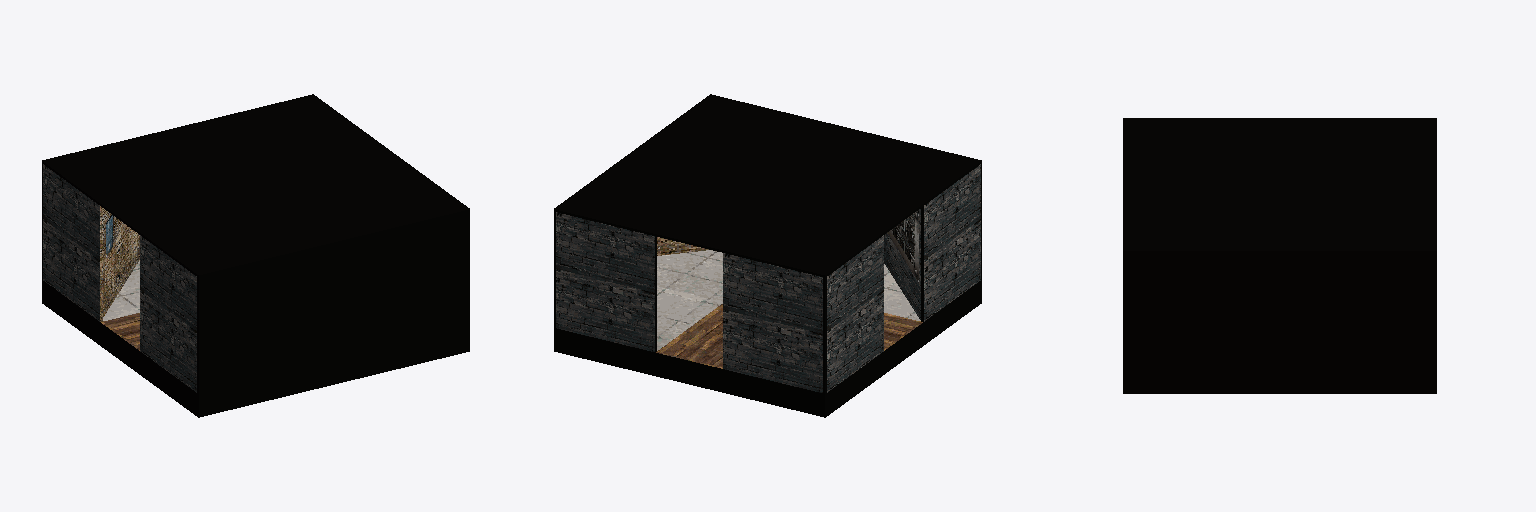
The picture shows the model from 3 angles: view 1: azimuth 30°, elevation 25°; view 2: azimuth 150°, elevation 25°; view 3: azimuth 270°, elevation 25°; orthographic projection.
Visible parts, largest first — view 1: Right; view 2: Right; view 3: Right.
Boxes of the visible parts, x1,y1,x2,y2 form: Right: [42, 94, 469, 417]; Right: [554, 94, 981, 417]; Right: [1123, 118, 1436, 393].
Size of the model in its own units: 12 by 6 by 12.
1 materials, 1 textured.